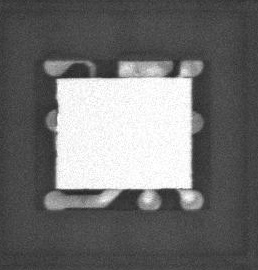DIE_BROKEN: (53, 98, 59, 117)
